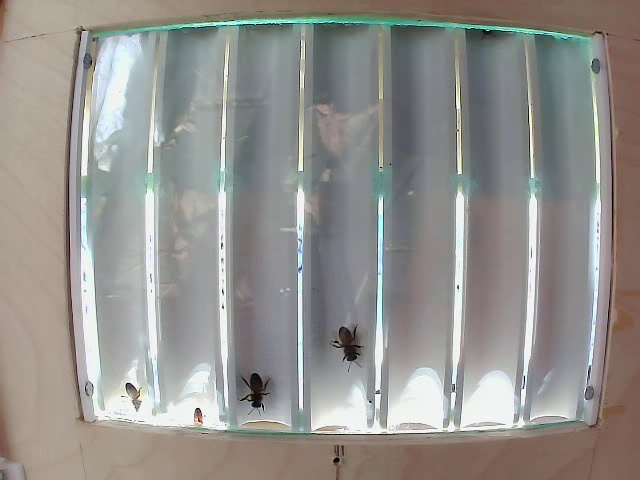bee: (232, 356, 285, 415), (327, 322, 363, 366)
